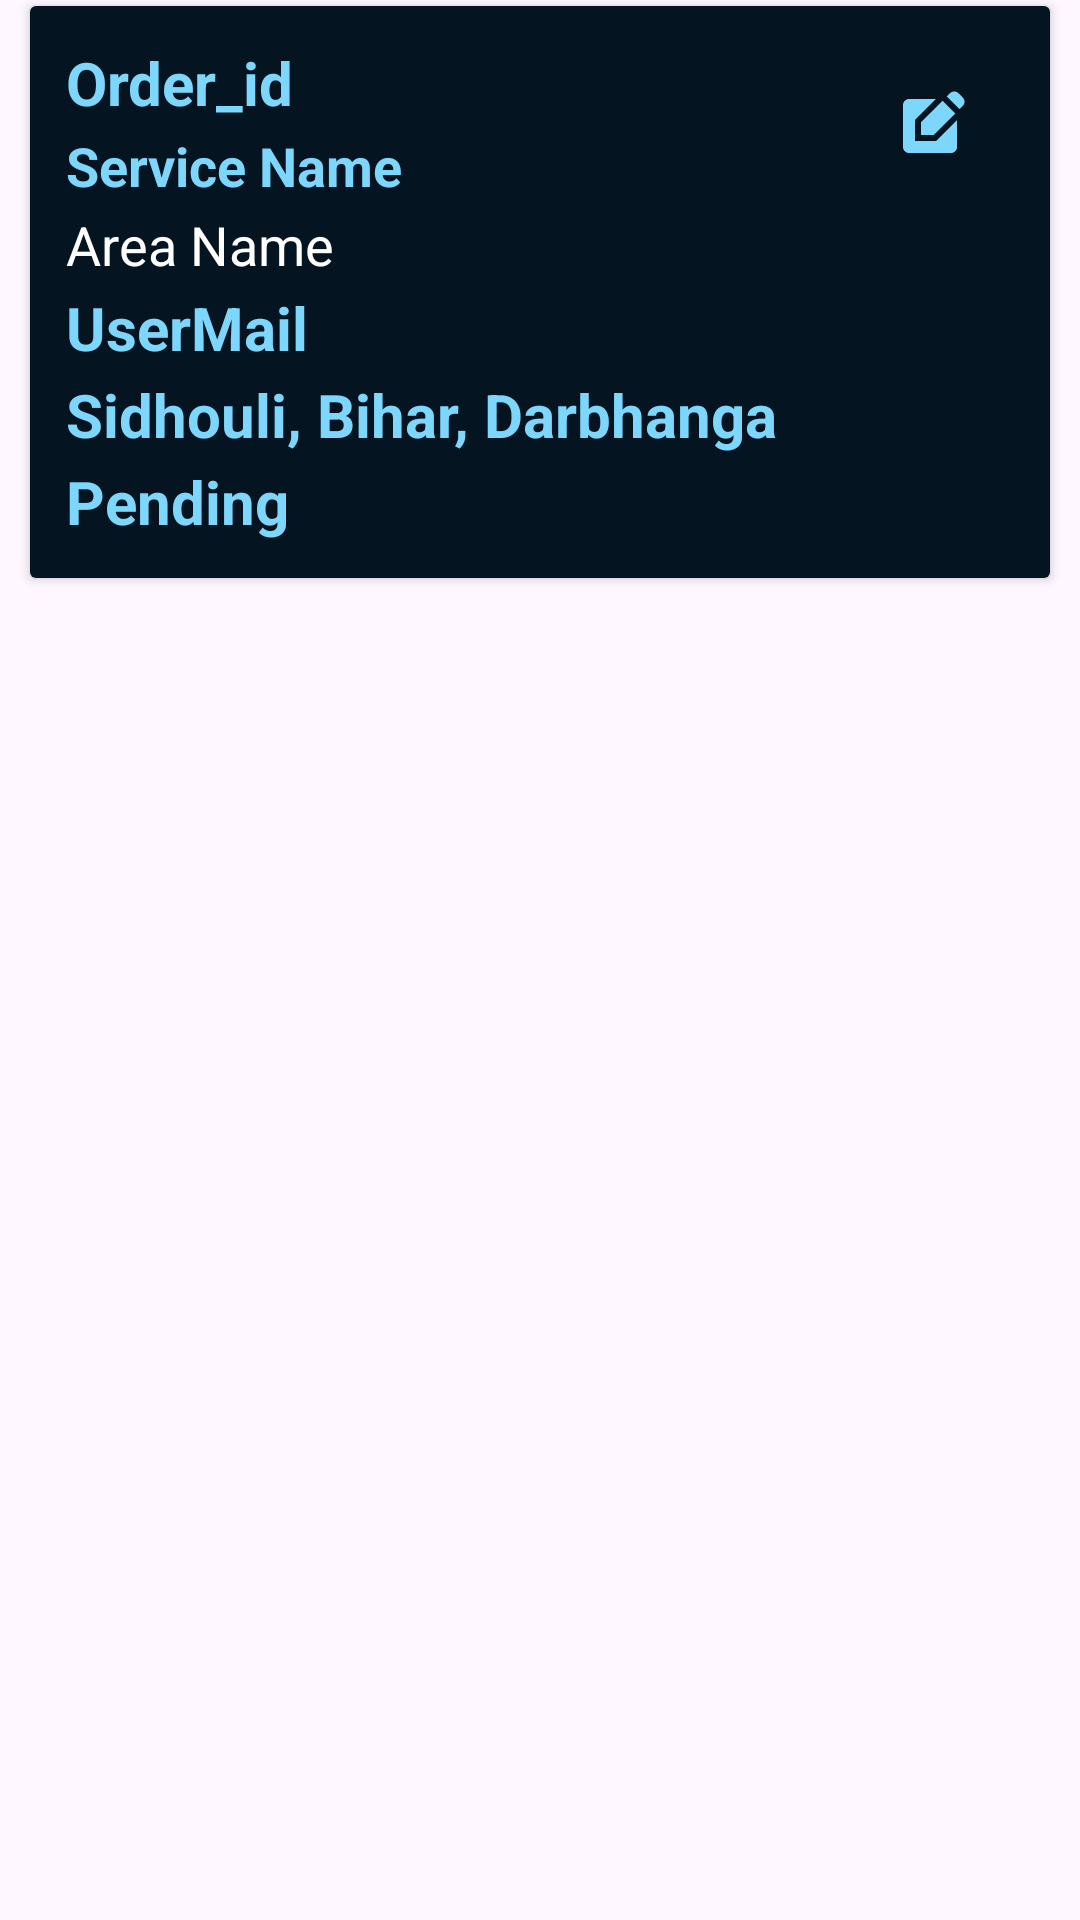

Icons on this 1080w x 1920h Android screen, each with its box as (x1, y1, x2, y2):
edit square: (903, 91, 965, 153)
